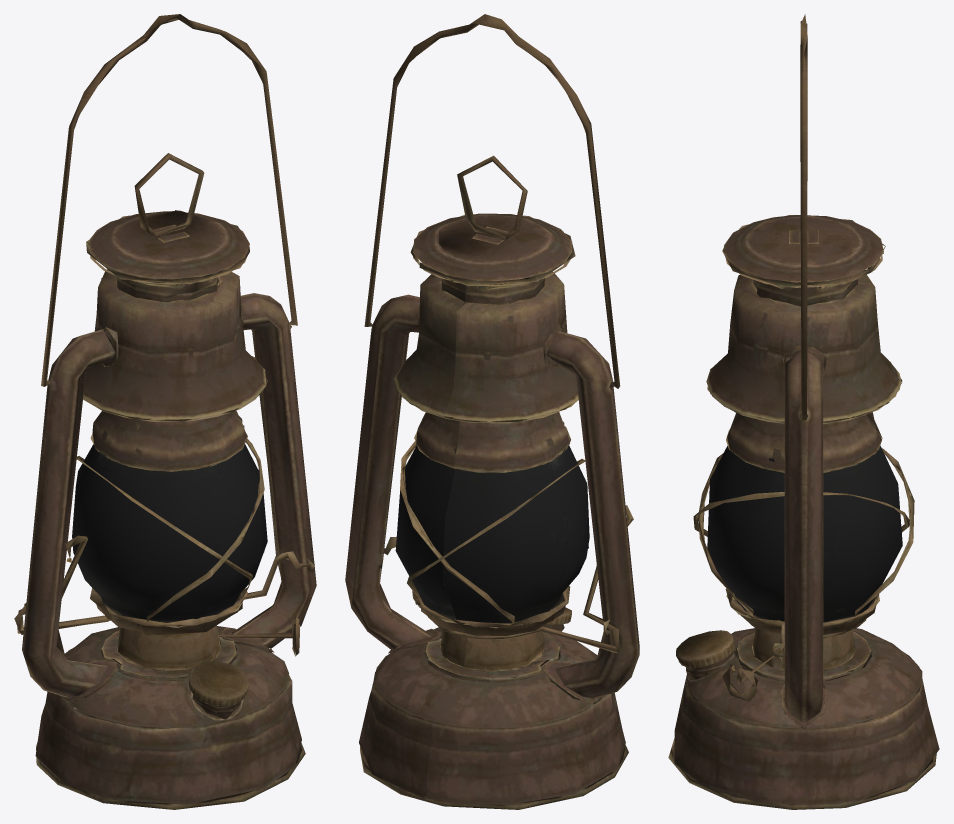
File: Lantern_01.glb
The picture shows the model from 3 angles, left to right: view 1: azimuth 30°, elevation 25°; view 2: azimuth 150°, elevation 25°; view 3: azimuth 270°, elevation 25°; orthographic projection.
Parts seen in each view (by area): view 1: Lantern_01; view 2: Lantern_01; view 3: Lantern_01.
Part boxes in pixels (bbox=[...]): Lantern_01: bbox=[14, 14, 316, 809]; Lantern_01: bbox=[345, 14, 639, 809]; Lantern_01: bbox=[668, 14, 939, 809].
Bounding box in the file's own units: 0.1222 × 0.2941 × 0.0983.
Materials: 2 (2 with a texture image).
